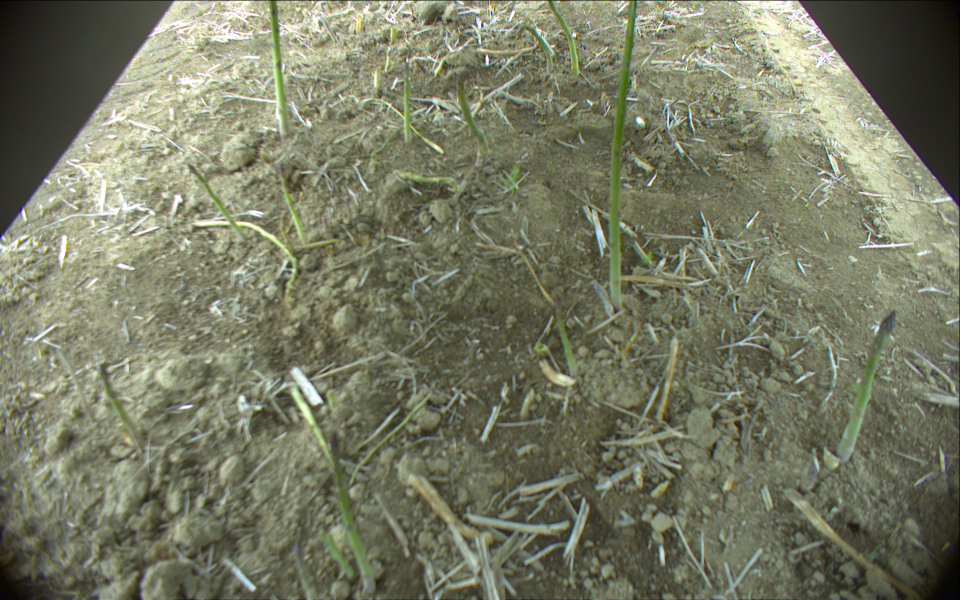aspa: (324, 406, 383, 597), (606, 1, 641, 307), (831, 311, 897, 469), (192, 221, 300, 299), (189, 163, 252, 248), (289, 386, 341, 476), (98, 364, 146, 459), (263, 1, 292, 137), (381, 96, 446, 155), (455, 69, 491, 167), (272, 161, 311, 247), (547, 1, 579, 73), (556, 303, 580, 378), (319, 529, 354, 580), (296, 529, 319, 600), (392, 174, 463, 195), (523, 26, 556, 71), (400, 63, 413, 144), (276, 210, 296, 253)
